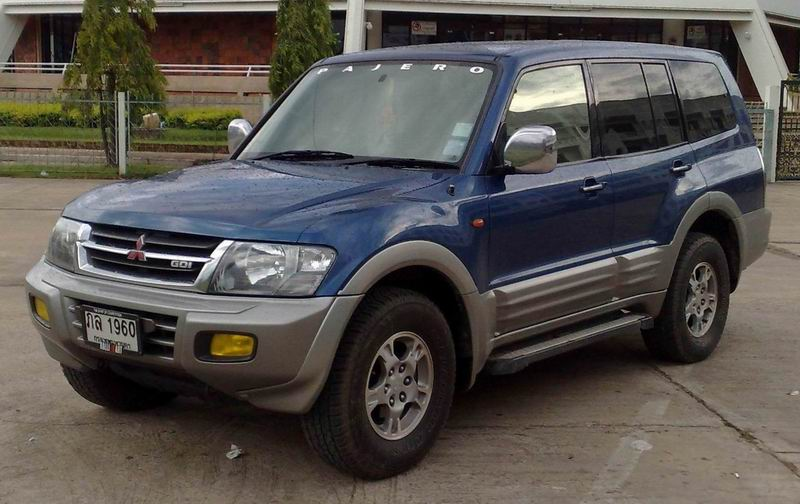pickup: (23, 38, 775, 479)
